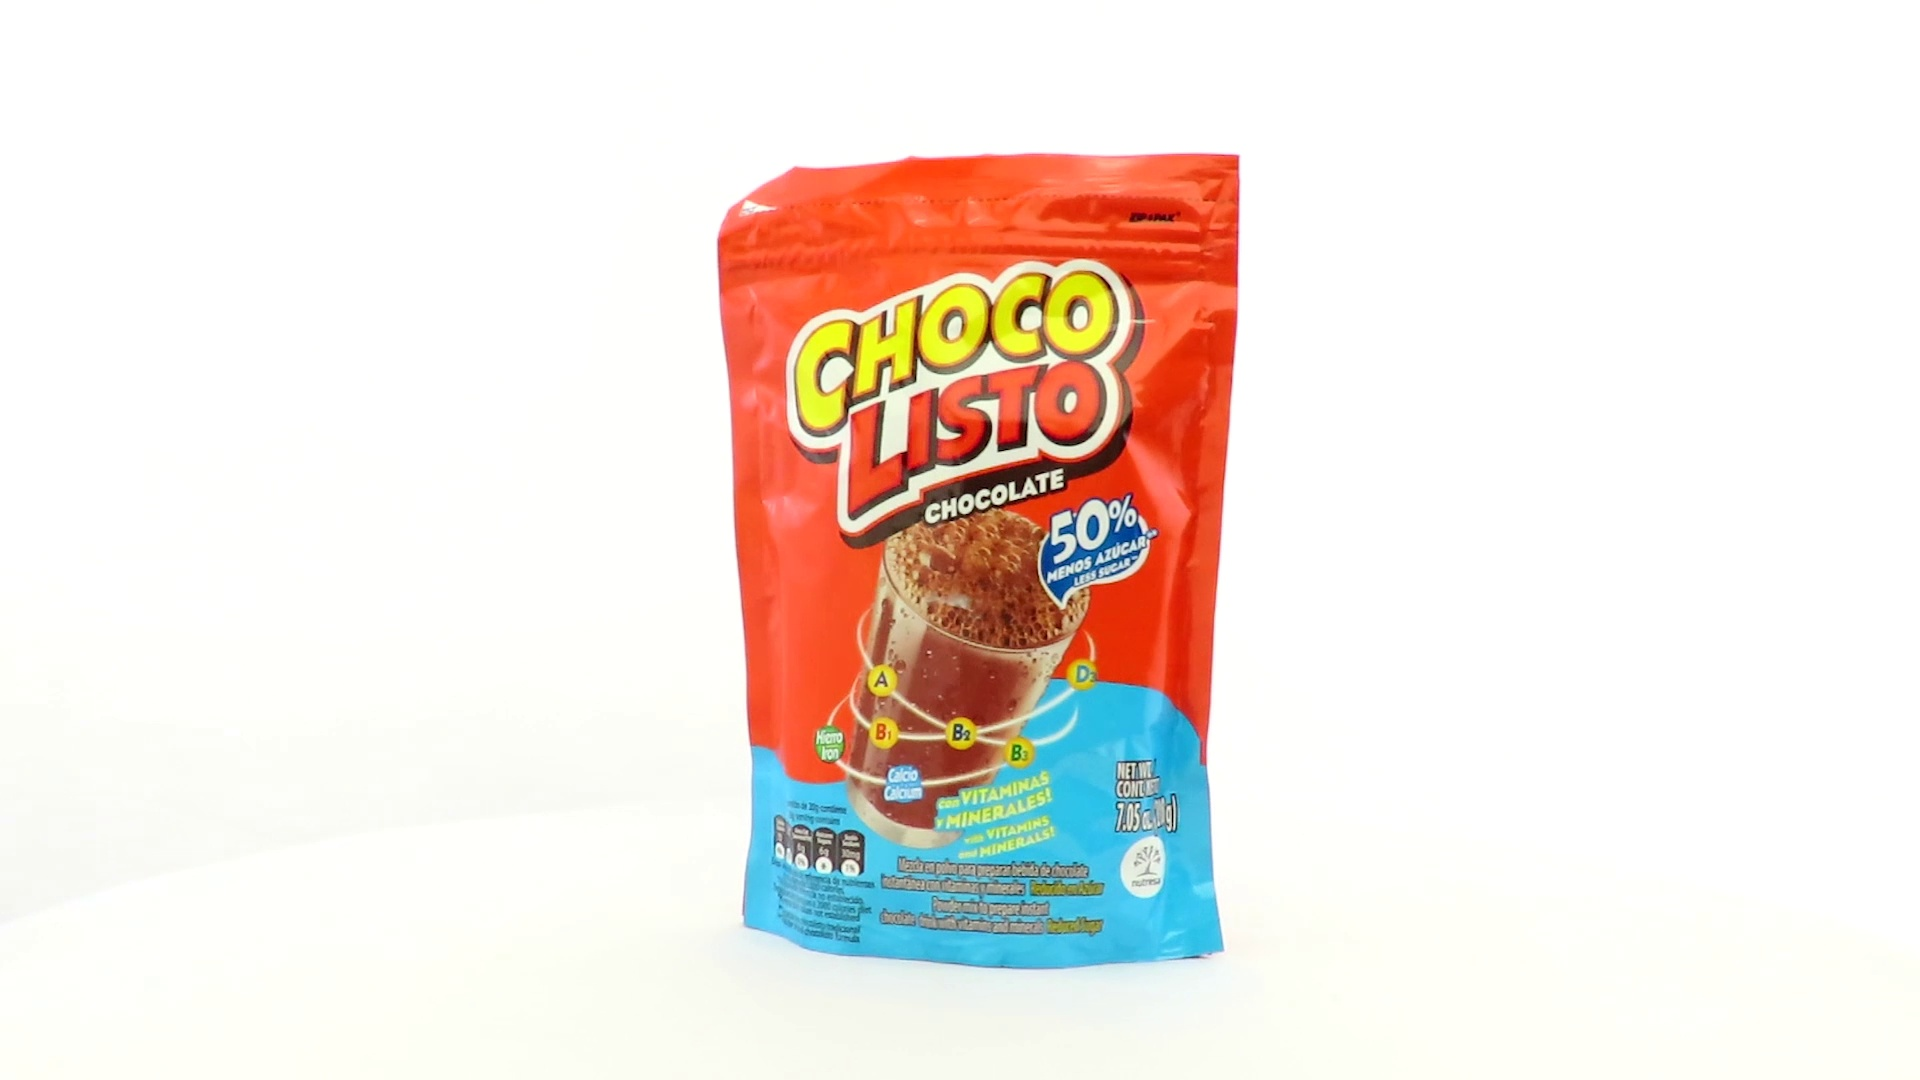COL0170104DYP20000: (712, 148, 1246, 976)
